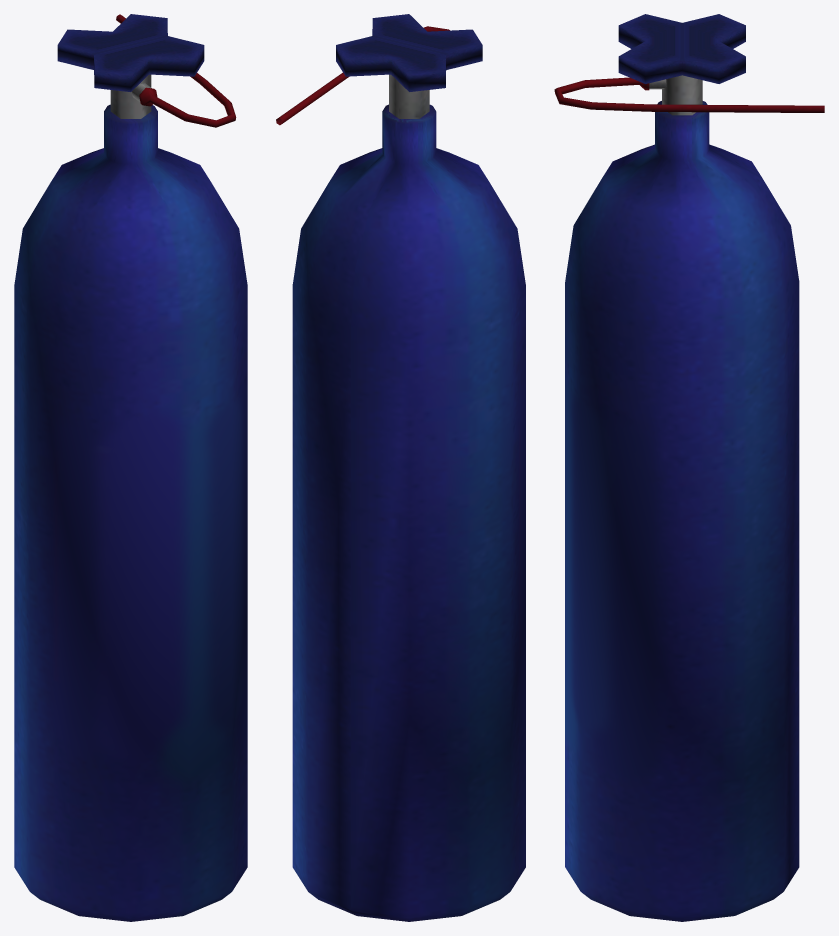
File: Nitro .fbx
The picture shows the model from 3 angles, left to right: view 1: azimuth 30°, elevation 25°; view 2: azimuth 150°, elevation 25°; view 3: azimuth 270°, elevation 25°; orthographic projection.
Visible parts, largest first — view 1: Nitro; view 2: Nitro; view 3: Nitro.
Boxes of the visible parts, bbox=[...] form: Nitro: bbox=[14, 14, 247, 921]; Nitro: bbox=[276, 14, 525, 921]; Nitro: bbox=[554, 14, 824, 921].
Size of the model in its own units: 13.07 by 51.45 by 15.05.
1 material, 1 textured.
